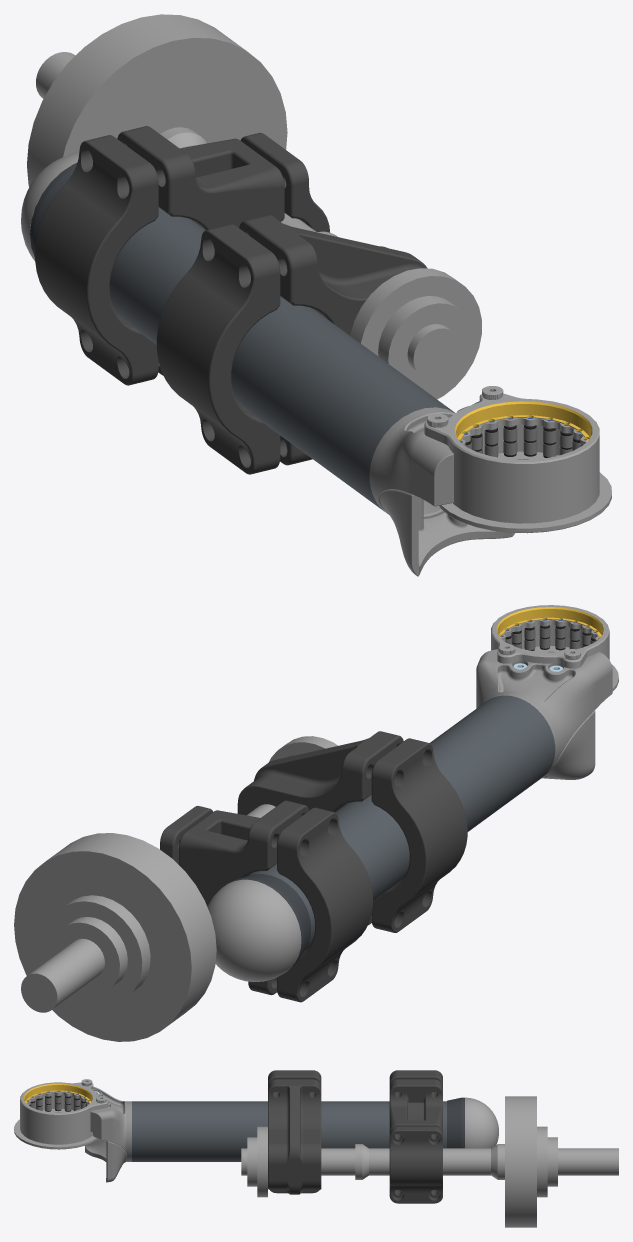
File: RIGHT_ELBOW_PITCH_LINK_413mm_LENGTH_5LB.obj
The picture shows the model from 3 angles, top to bottom: view 1: azimuth 30°, elevation 25°; view 2: azimuth 150°, elevation 25°; view 3: azimuth 270°, elevation 25°; orthographic projection. The views are drawn at different scales.
Visible parts, largest first — view 1: mesh789, mesh276, mesh232, mesh257, mesh1177, mesh277, mesh227, mesh142, mesh3, mesh5, mesh509, mesh398 (+26 smaller); view 2: mesh274, mesh789, mesh232, mesh785, mesh277, mesh247, mesh3, mesh150, mesh769, mesh279, mesh227, mesh520 (+17 smaller); view 3: mesh789, mesh277, mesh1177, mesh283, mesh296, mesh279, mesh2, mesh785, mesh287, mesh4, mesh477, mesh1322 (+27 smaller).
Boxes of the visible parts, <box> form: mesh789: <box>109,207,454,510</box>; mesh276: <box>63,38,287,157</box>; mesh232: <box>35,184,237,431</box>; mesh257: <box>89,185,278,463</box>; mesh1177: <box>449,435,599,523</box>; mesh277: <box>27,14,245,187</box>; mesh227: <box>65,150,252,310</box>; mesh142: <box>172,175,282,228</box>; mesh3: <box>361,276,481,399</box>; mesh5: <box>388,303,473,393</box>; mesh509: <box>293,264,365,454</box>; mesh398: <box>302,236,421,277</box>; mesh274: <box>14,851,191,1041</box>; mesh789: <box>248,695,555,952</box>; mesh232: <box>310,777,467,969</box>; mesh785: <box>207,879,301,981</box>; mesh277: <box>47,833,216,1028</box>; mesh247: <box>278,777,425,993</box>; mesh3: <box>47,901,142,1003</box>; mesh150: <box>180,839,266,986</box>; mesh769: <box>519,665,595,745</box>; mesh279: <box>28,938,104,1008</box>; mesh227: <box>298,750,443,874</box>; mesh520: <box>238,770,361,815</box>; mesh789: <box>132,1101,446,1161</box>; mesh277: <box>505,1096,536,1227</box>; mesh1177: <box>20,1100,90,1144</box>; mesh283: <box>369,1148,490,1175</box>; mesh296: <box>390,1153,441,1185</box>; mesh279: <box>558,1148,618,1175</box>; mesh2: <box>257,1126,547,1197</box>; mesh785: <box>465,1097,498,1148</box>; mesh287: <box>241,1148,355,1175</box>; mesh4: <box>247,1137,557,1186</box>; mesh477: <box>269,1159,320,1185</box>; mesh1322: <box>447,1098,460,1148</box>.
Size of the model in its own units: 0.1703 by 0.1236 by 0.5664.
